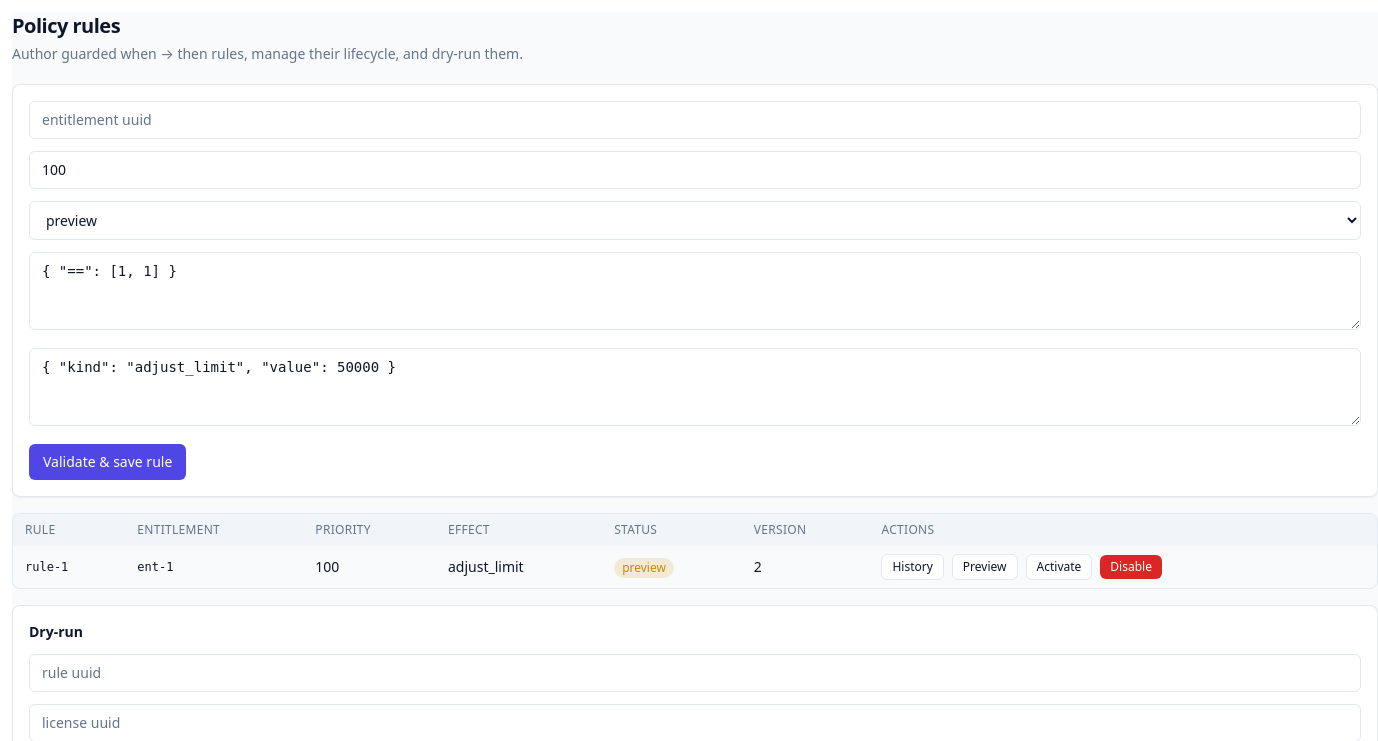
Test: PolicyRules (US1/US5) › authors a rule and surfaces a distinct author-time 400 code inline
This screenshot has width=1378, height=741.
Expected: the text "rule-1" is shown, [13,546,125,588]
In the field named "Target entitlement id": (695, 120) [29,101,1361,139], type "ent-1"
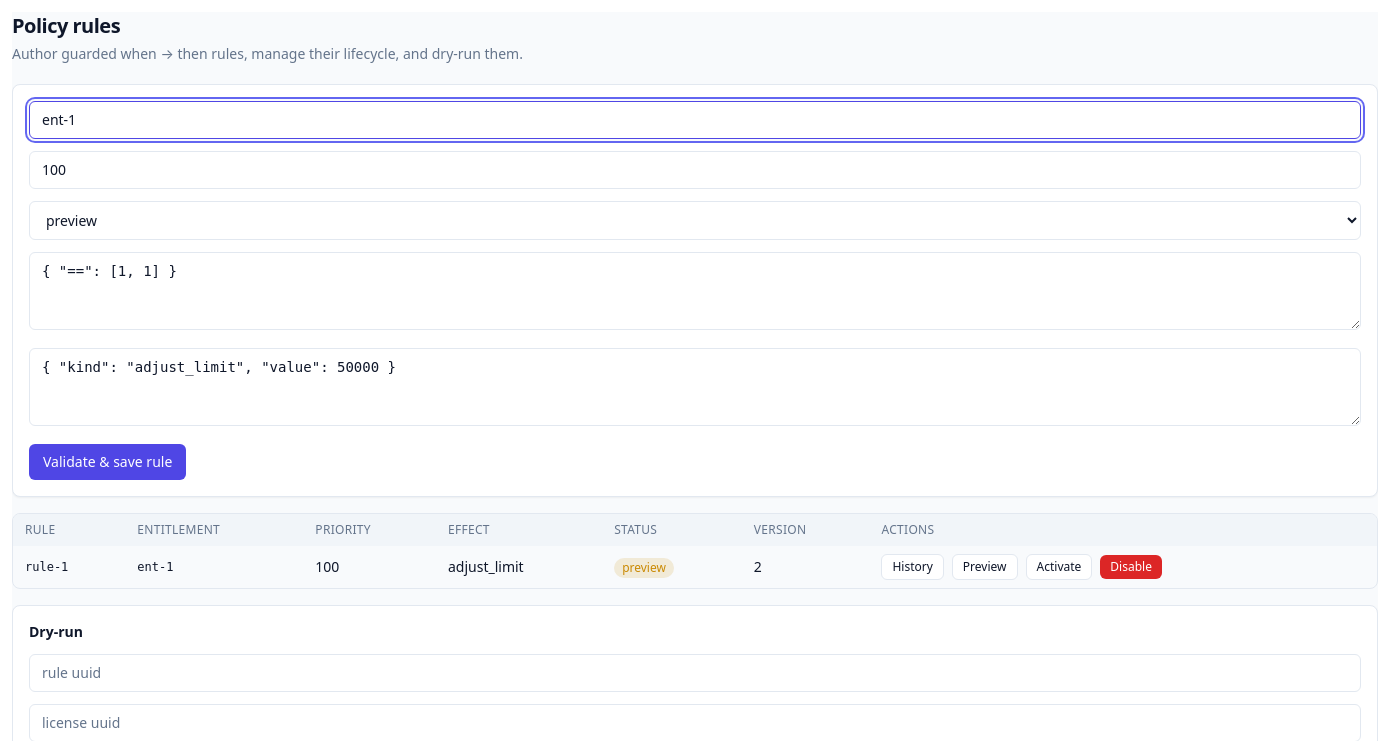
Click the button "Validate & save rule": (108, 462) [29,444,186,480]
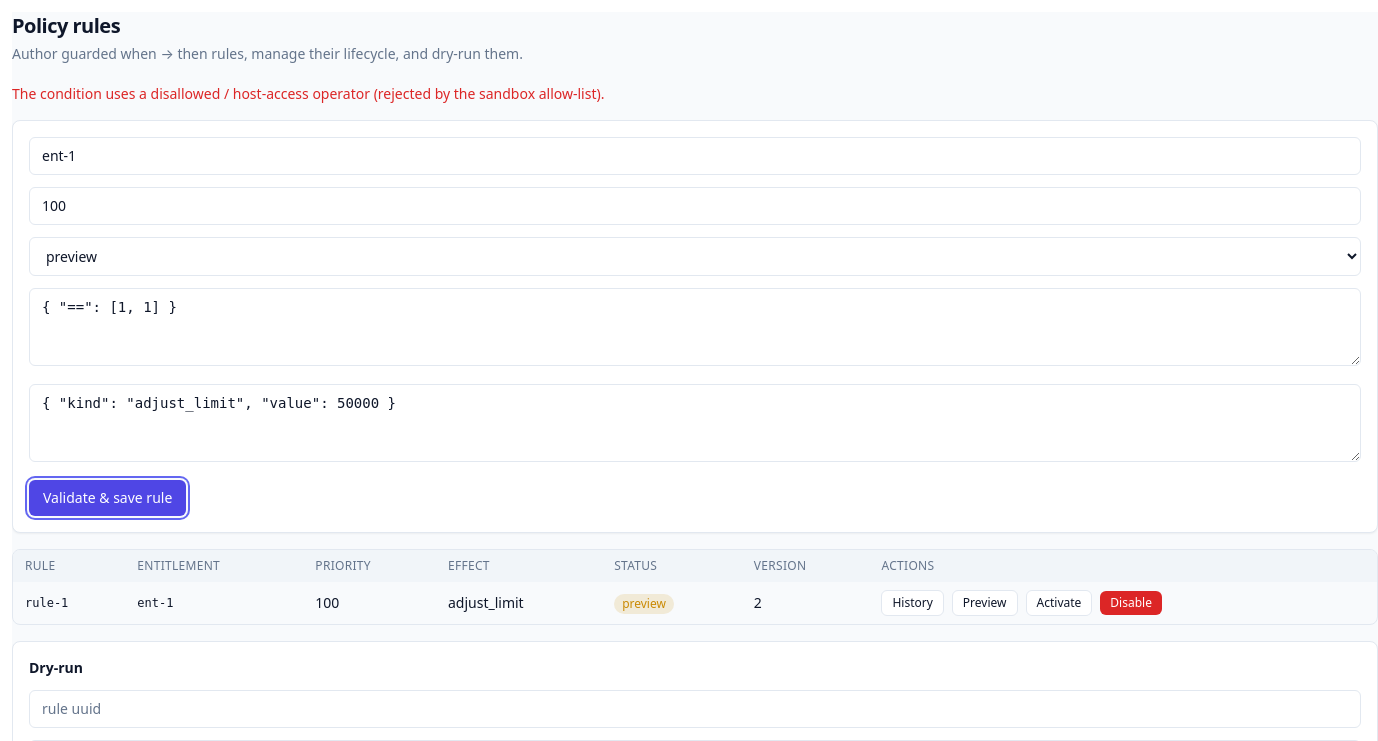
Now the message shows "disallowed / host-access operator", box [12,84,604,103]
